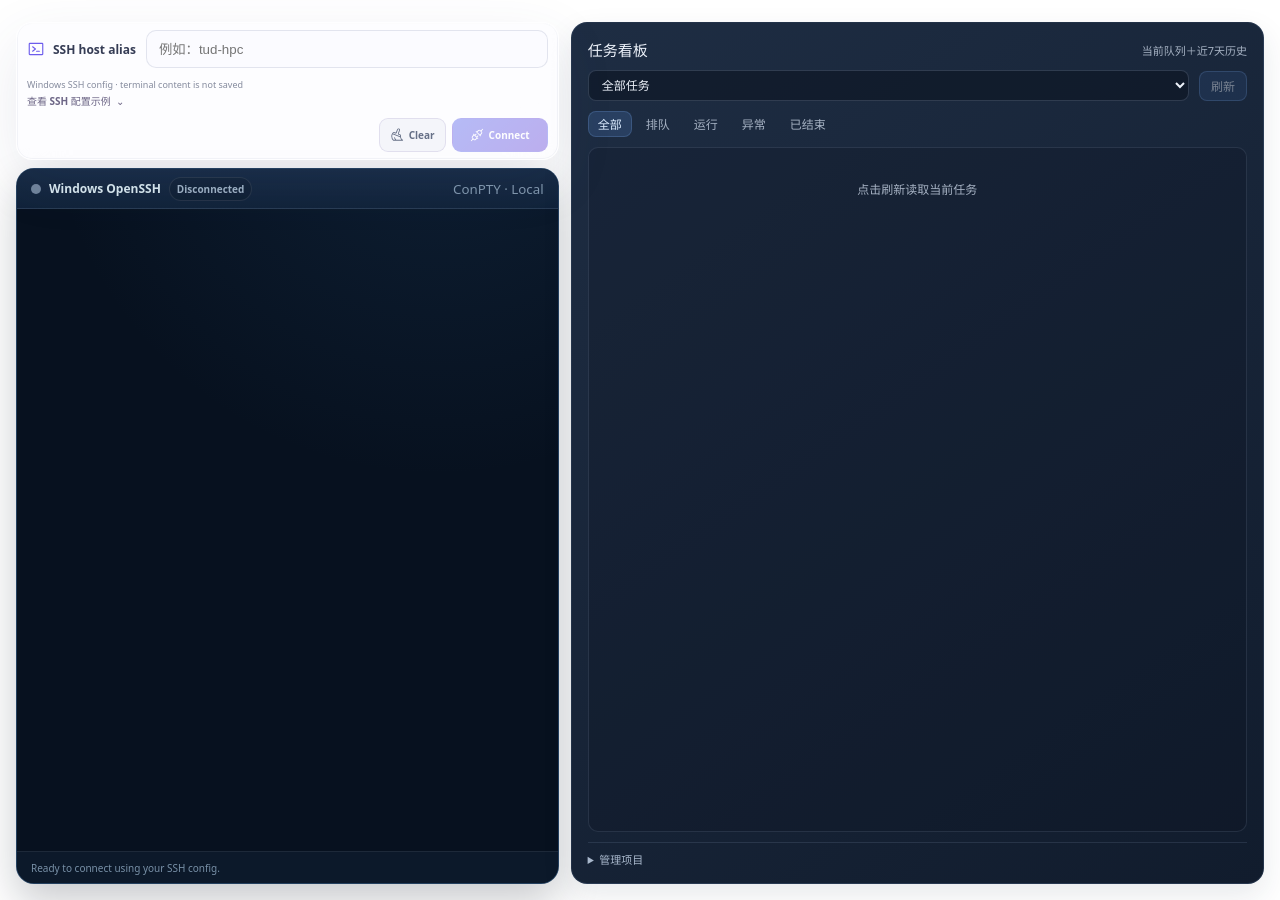
Scenario: HpcPage › describes local SSH startup without claiming remote authentication
Type "tud-hpc" into the field labelled "SSH host alias" at (347, 49), box [146,30,548,68]
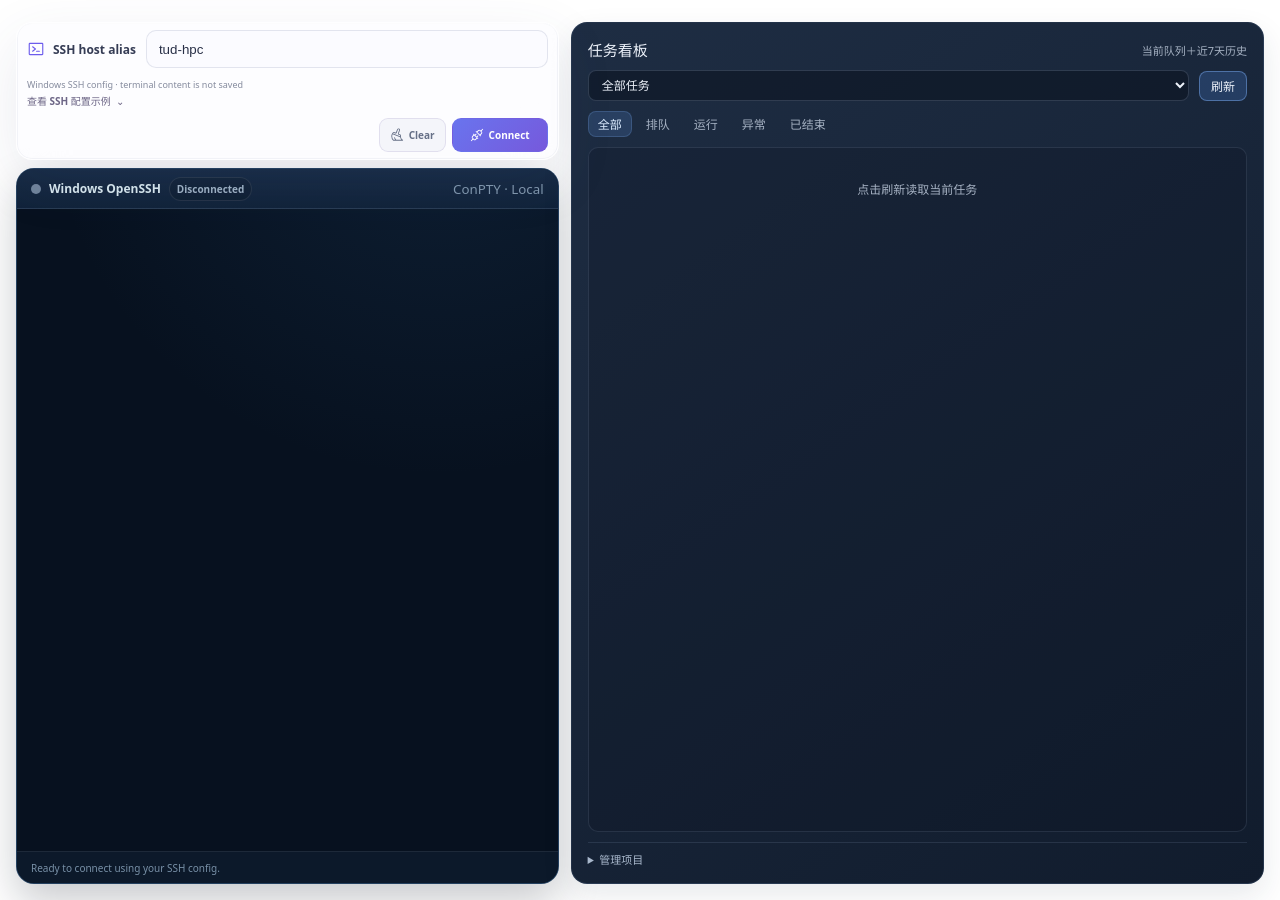
Click the button "Connect" at (500, 135), box [452,118,548,152]
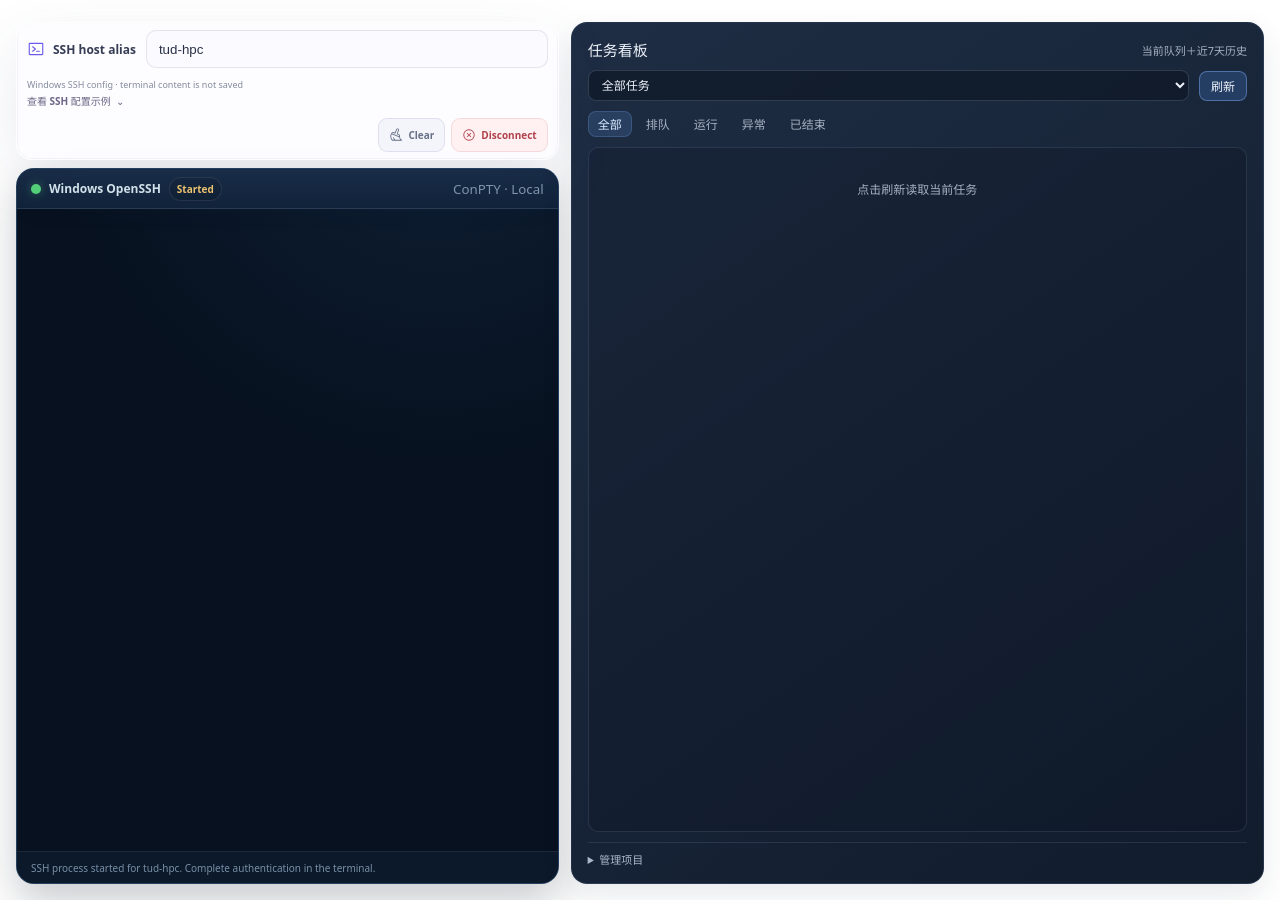
Expected: the text "Connected" is not shown
Expected: the text "Started" is shown, [169,176,222,200]
Expected: the text "Complete authentication in the terminal" is shown, [31,860,375,874]
